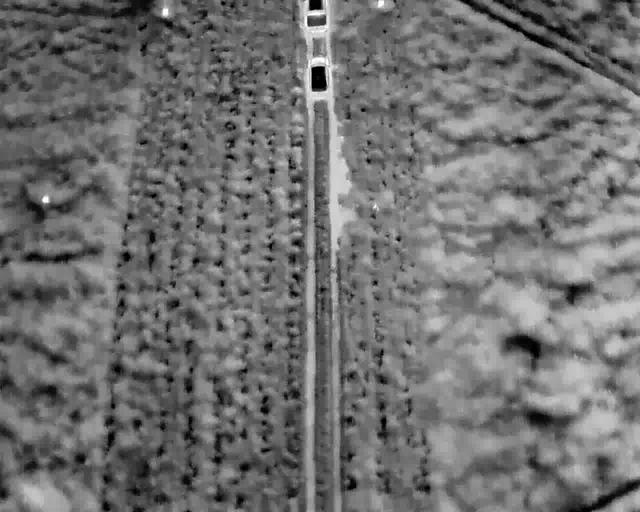car: (306, 52, 332, 95), (303, 0, 329, 33)
